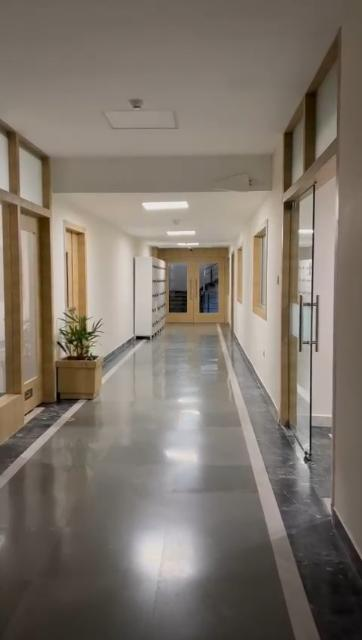door: (283, 99, 338, 437), (1, 122, 53, 414), (170, 247, 231, 326), (62, 223, 88, 309)
floor: (0, 326, 359, 634)
object: (58, 308, 102, 404)
wall: (337, 3, 362, 516), (90, 219, 135, 341), (268, 206, 280, 397), (242, 230, 252, 346)
